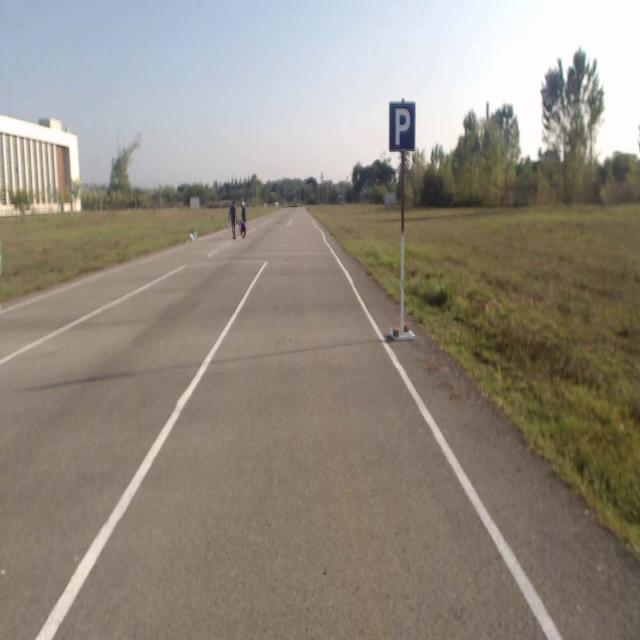park: (390, 102, 414, 150)
